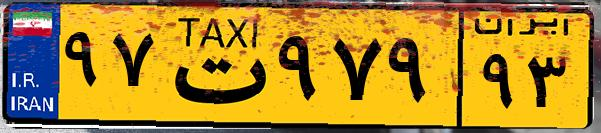3: (525, 38, 570, 115)
7: (330, 28, 385, 110), (110, 28, 158, 98)
9: (270, 28, 330, 110), (385, 28, 445, 110), (57, 26, 110, 100), (475, 38, 525, 113)
ت: (158, 12, 270, 120)
